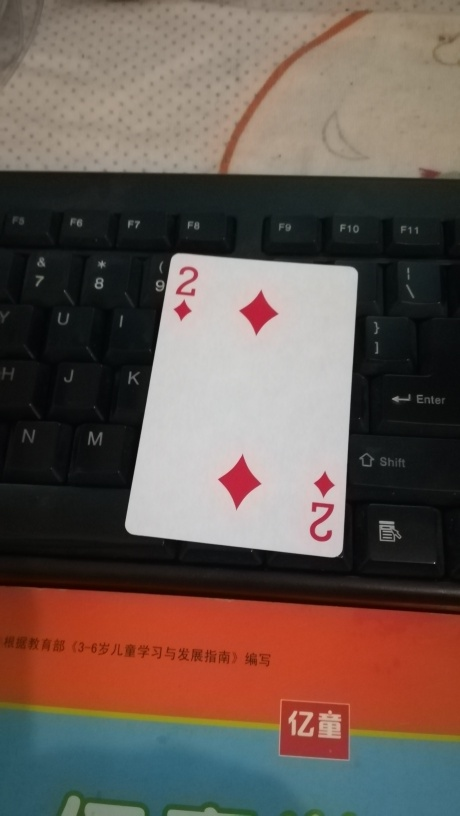fk 2: (123, 252, 373, 560)
